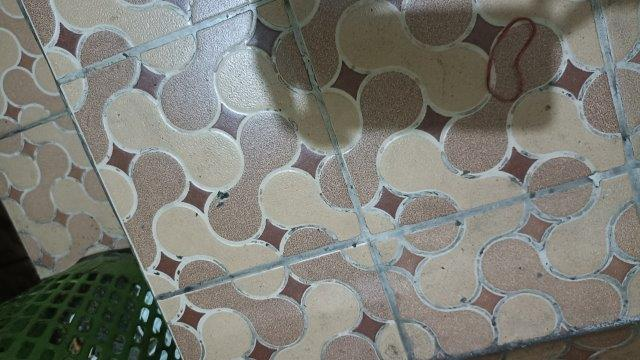karet: (487, 17, 536, 103)
